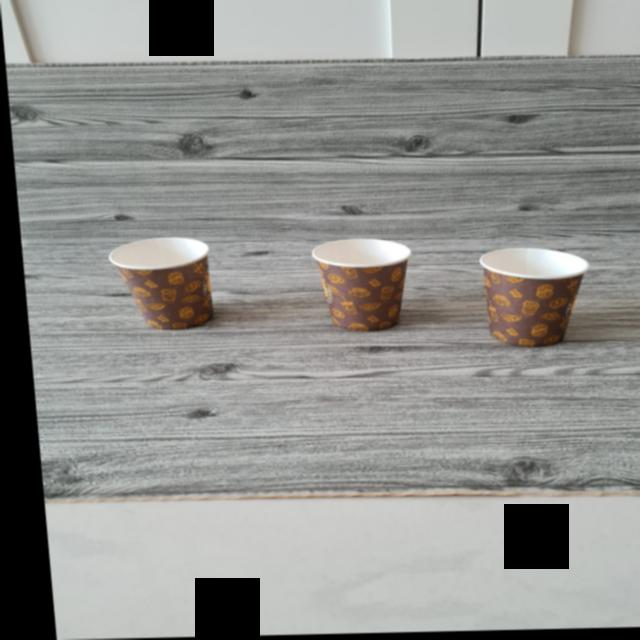cups: (469, 249, 585, 351), (102, 236, 217, 334), (303, 243, 411, 332)
